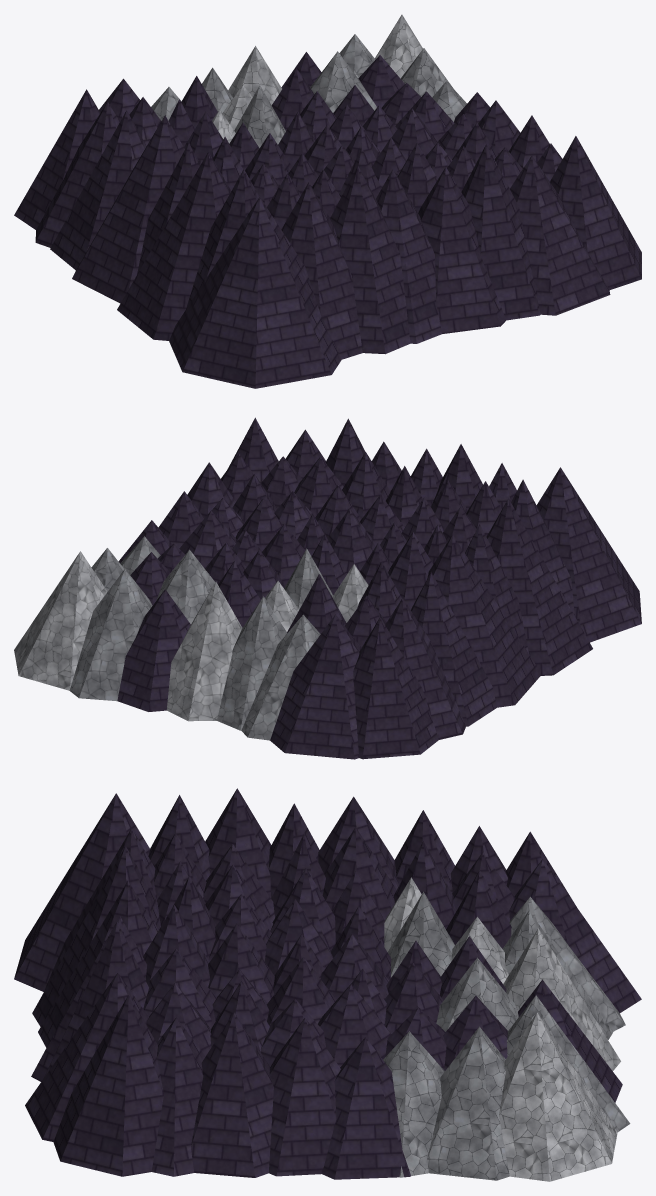
The model's file is chunk_7_24.glb.
3 views of the same model, one above another, from view 1: azimuth 30°, elevation 25°; view 2: azimuth 150°, elevation 25°; view 3: azimuth 270°, elevation 25° (orthographic). The views are drawn at different scales.
Parts seen in each view (by area): view 1: chunk_7_24; view 2: chunk_7_24; view 3: chunk_7_24.
Part boxes in pixels (x1=…): chunk_7_24: x1=14, y1=14, x2=641, y2=388; chunk_7_24: x1=14, y1=417, x2=641, y2=759; chunk_7_24: x1=14, y1=788, x2=641, y2=1181.
Bounding box in the file's own units: 21.07 × 6.64 × 21.29.
8 materials, 8 textured.
